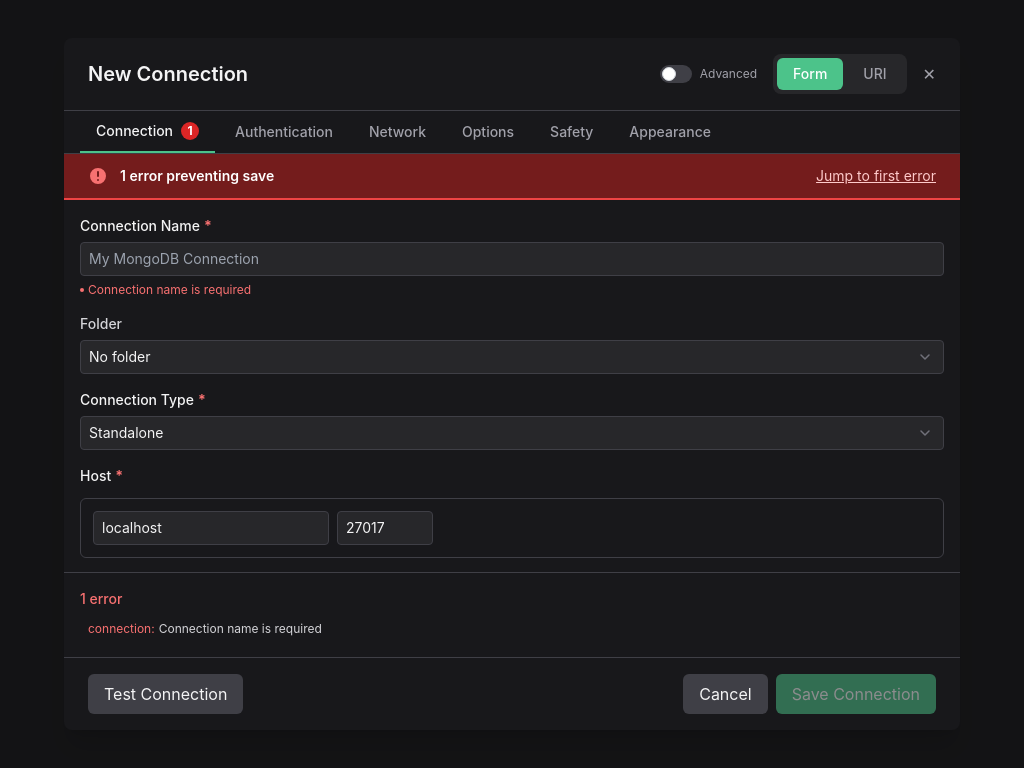
Test: ConnectionFormV2 › Connection Types › switches to SRV mode
This screenshot has width=1024, height=768.
# Select SRV from dropdown
Select "DNS SRV" in the dropdown with test id "connection-type-select" at (512, 433), box [80,416,944,450]
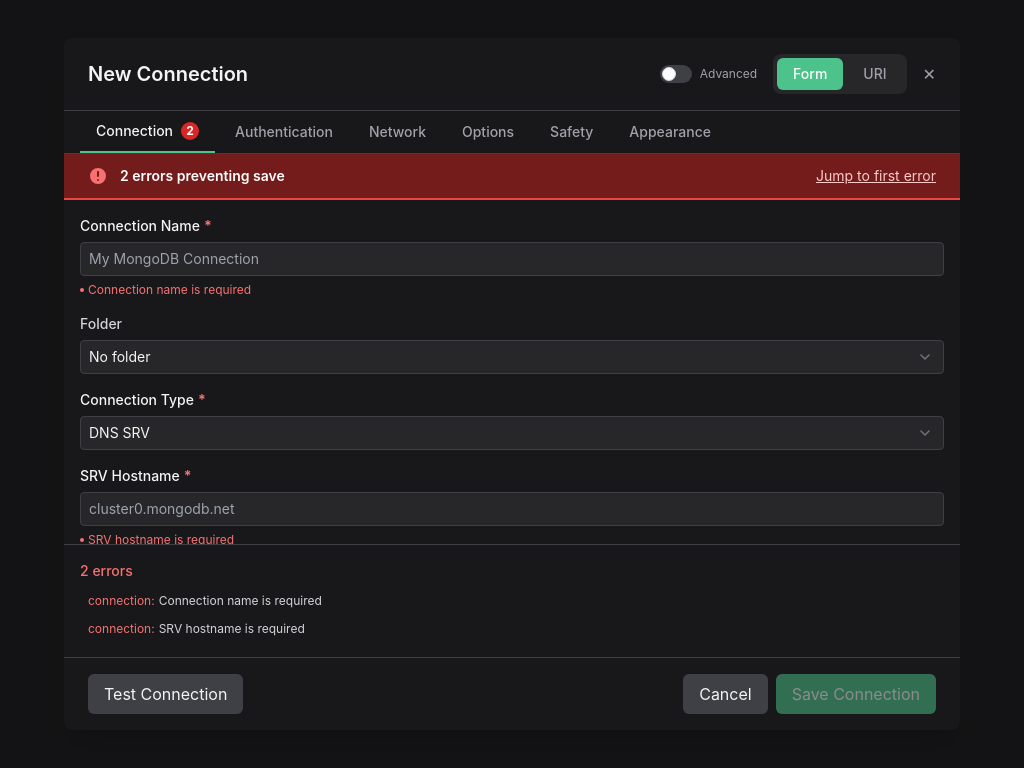
expect the field with test id "srv-hostname" is shown: met, box [80,492,944,526]
